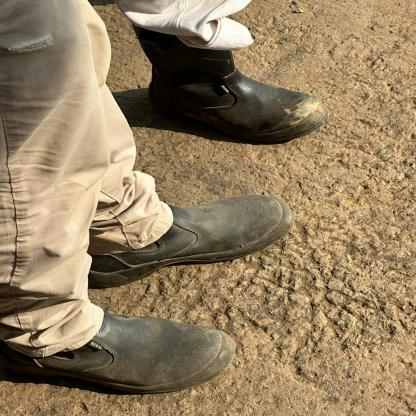bota: (126, 19, 339, 144), (60, 171, 301, 280), (13, 293, 249, 398)
